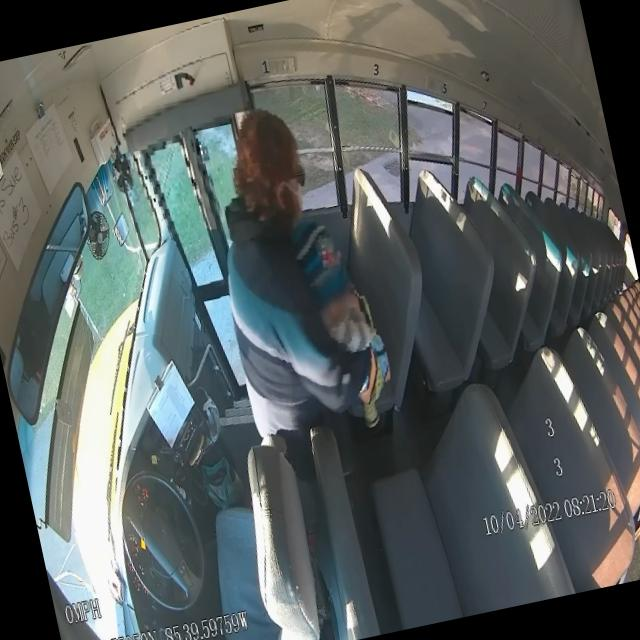bus-door: (144, 121, 245, 387)
